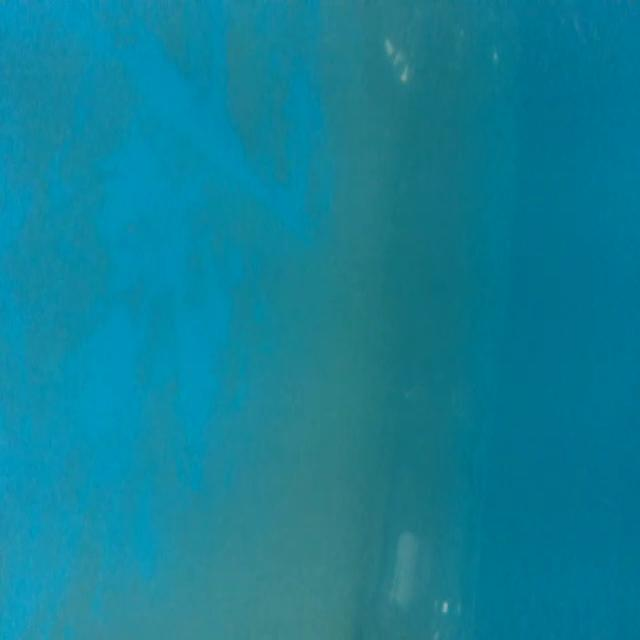plastic bottle: (356, 362, 495, 640)
